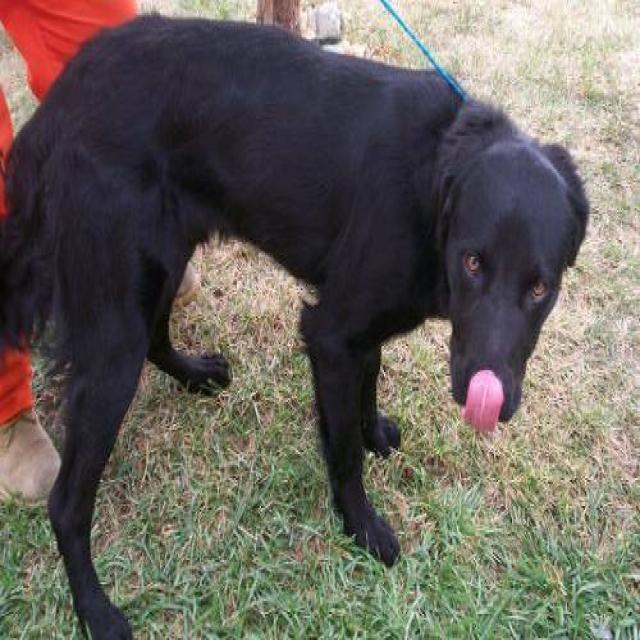dog: (0, 8, 589, 638)
